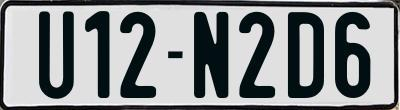1: (85, 9, 110, 97)
2: (120, 9, 162, 96), (237, 9, 275, 98)
6: (335, 9, 375, 98)
D: (288, 12, 324, 104)
N: (194, 12, 229, 101)
U: (38, 11, 73, 105)
